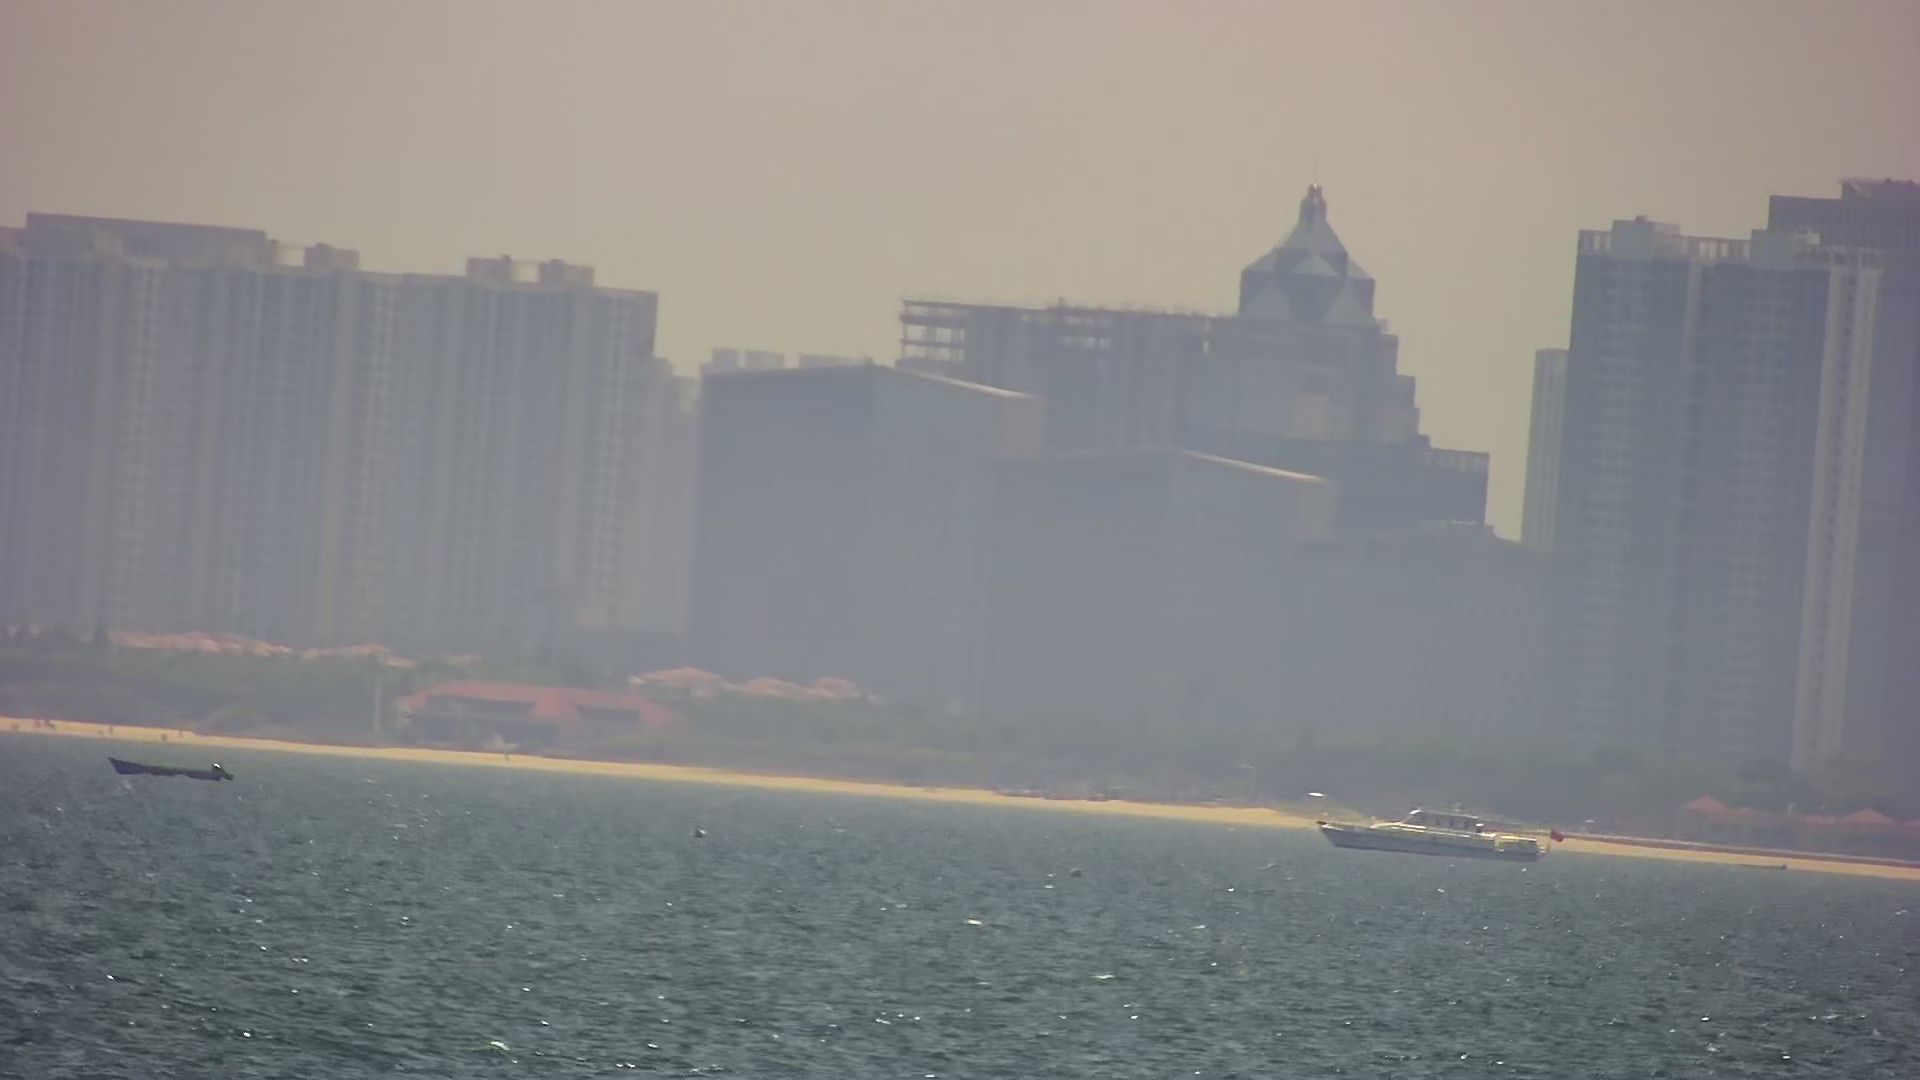boat: (1305, 794, 1563, 866), (95, 752, 240, 783)
